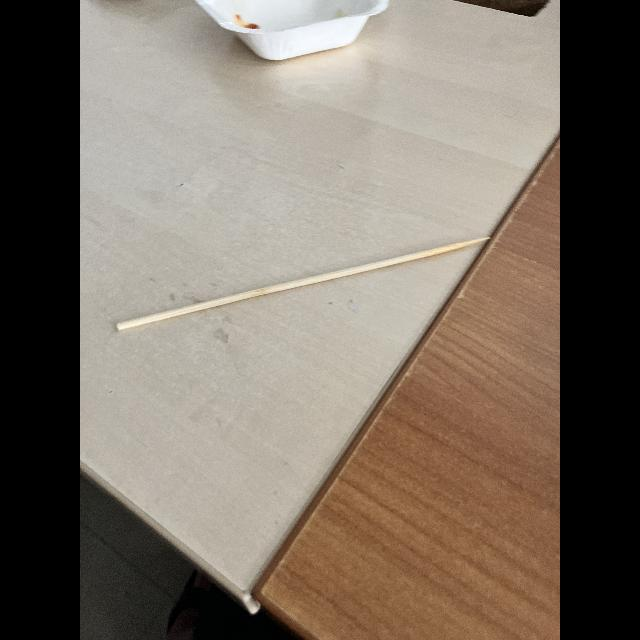cardboard_bowl: (188, 0, 408, 84)
stick: (94, 224, 510, 352)
